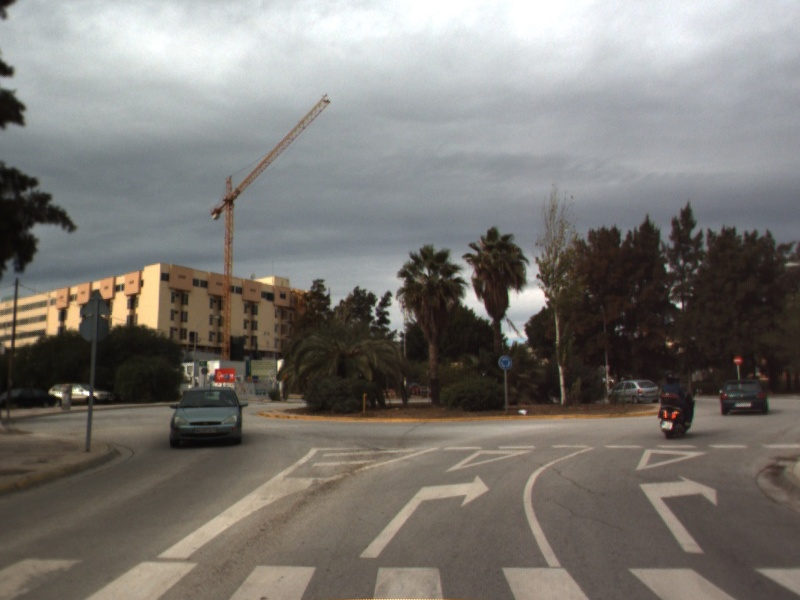RIGHT: (357, 473, 492, 560), (636, 473, 719, 555)
